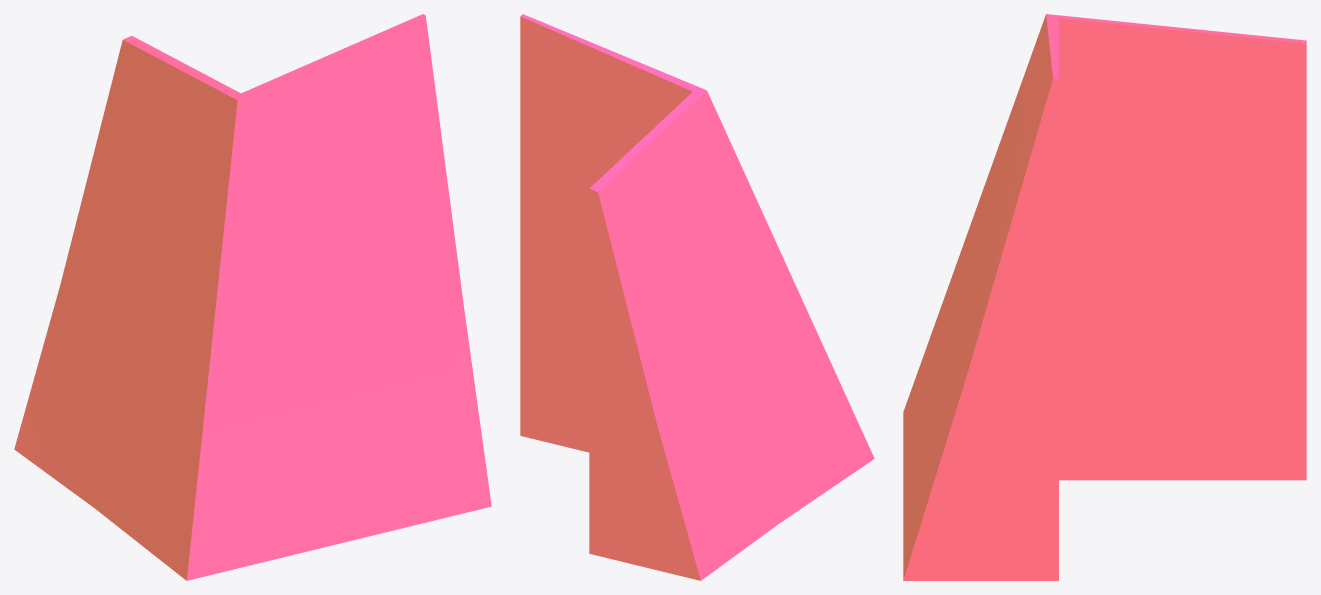
3 renders of one model, left to right at view 1: azimuth 30°, elevation 25°; view 2: azimuth 150°, elevation 25°; view 3: azimuth 270°, elevation 25°, orthographic. The views are drawn at different scales.
Parts seen in each view (by area): view 1: polySurface4; view 2: polySurface4; view 3: polySurface4.
Boxes of the visible parts, bbox=[...] form: polySurface4: bbox=[14, 14, 491, 580]; polySurface4: bbox=[520, 14, 874, 580]; polySurface4: bbox=[903, 14, 1306, 580].
Bounding box in the file's own units: 4.03 × 5.59 × 4.07.
